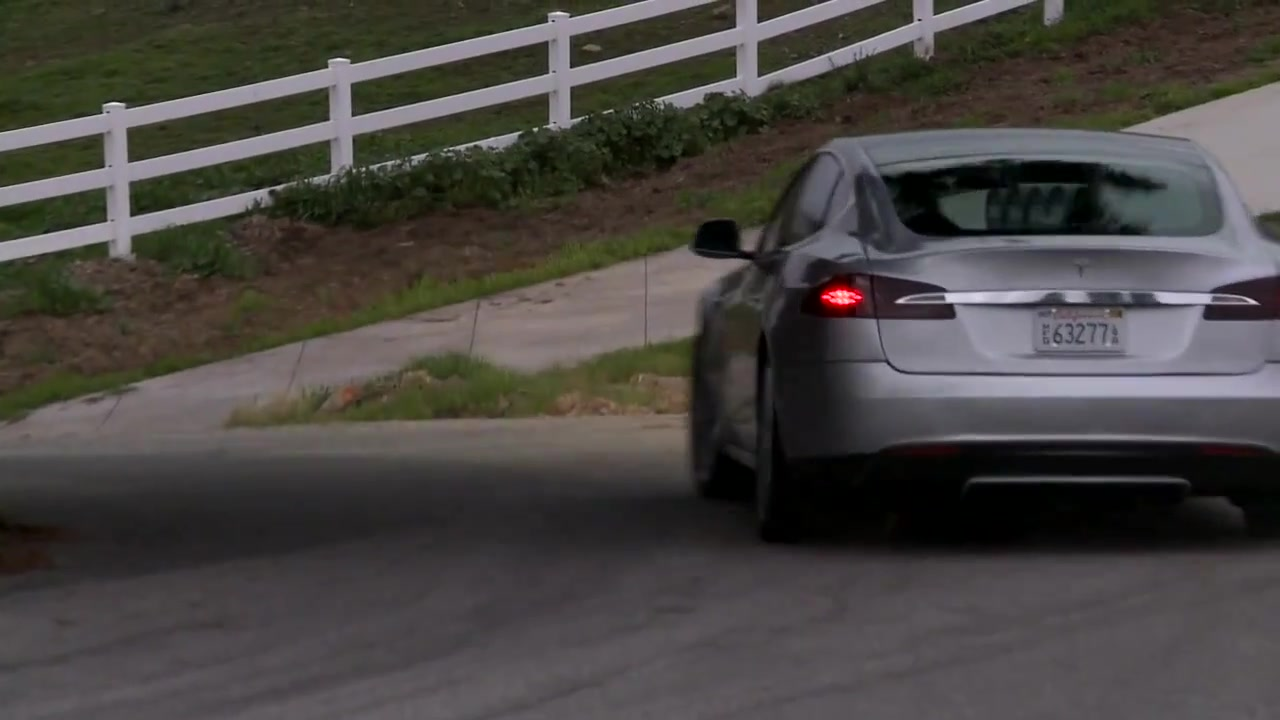car: (686, 122, 1280, 543)
